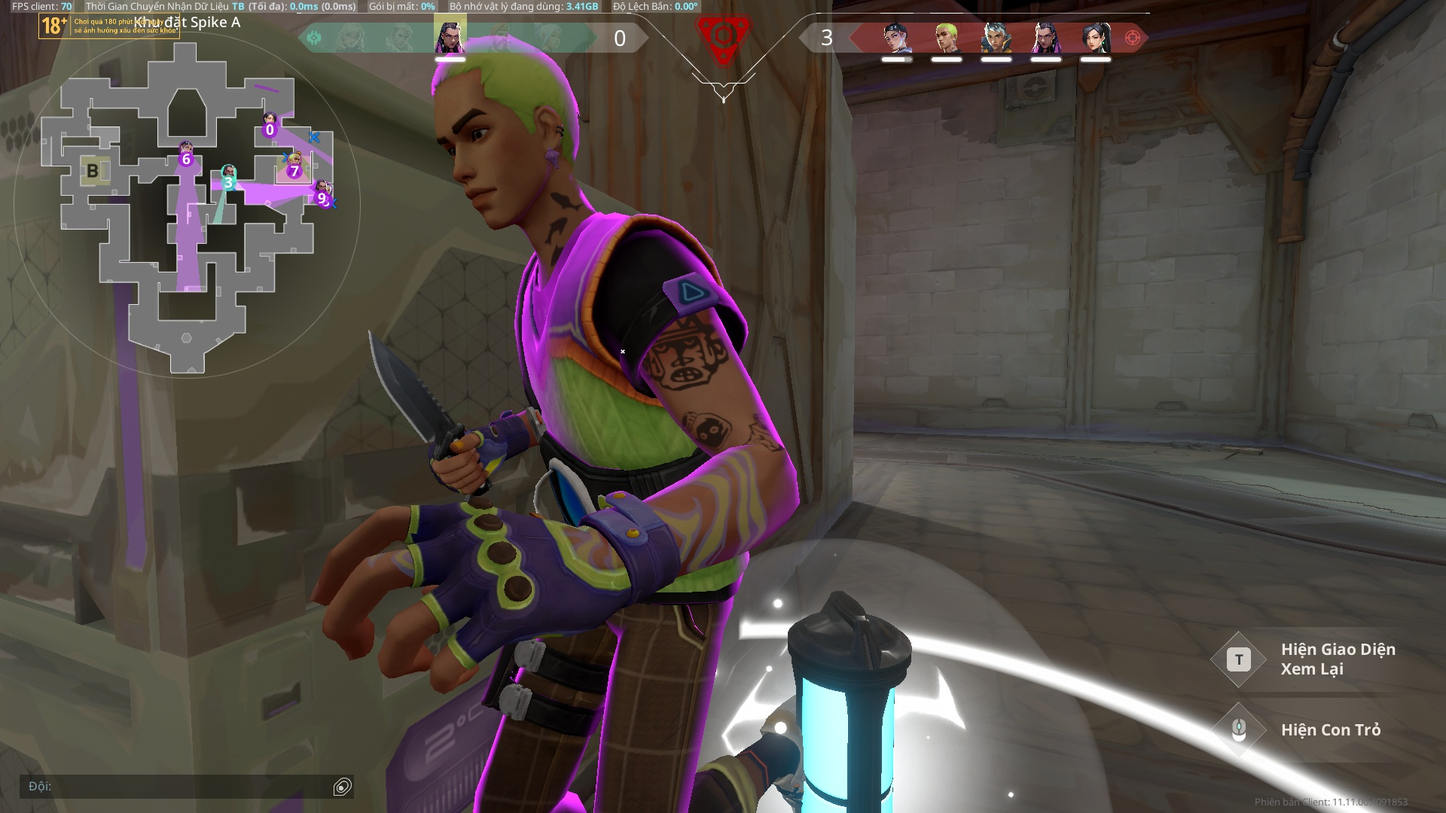body: (495, 221, 768, 551)
head: (424, 46, 592, 224)
